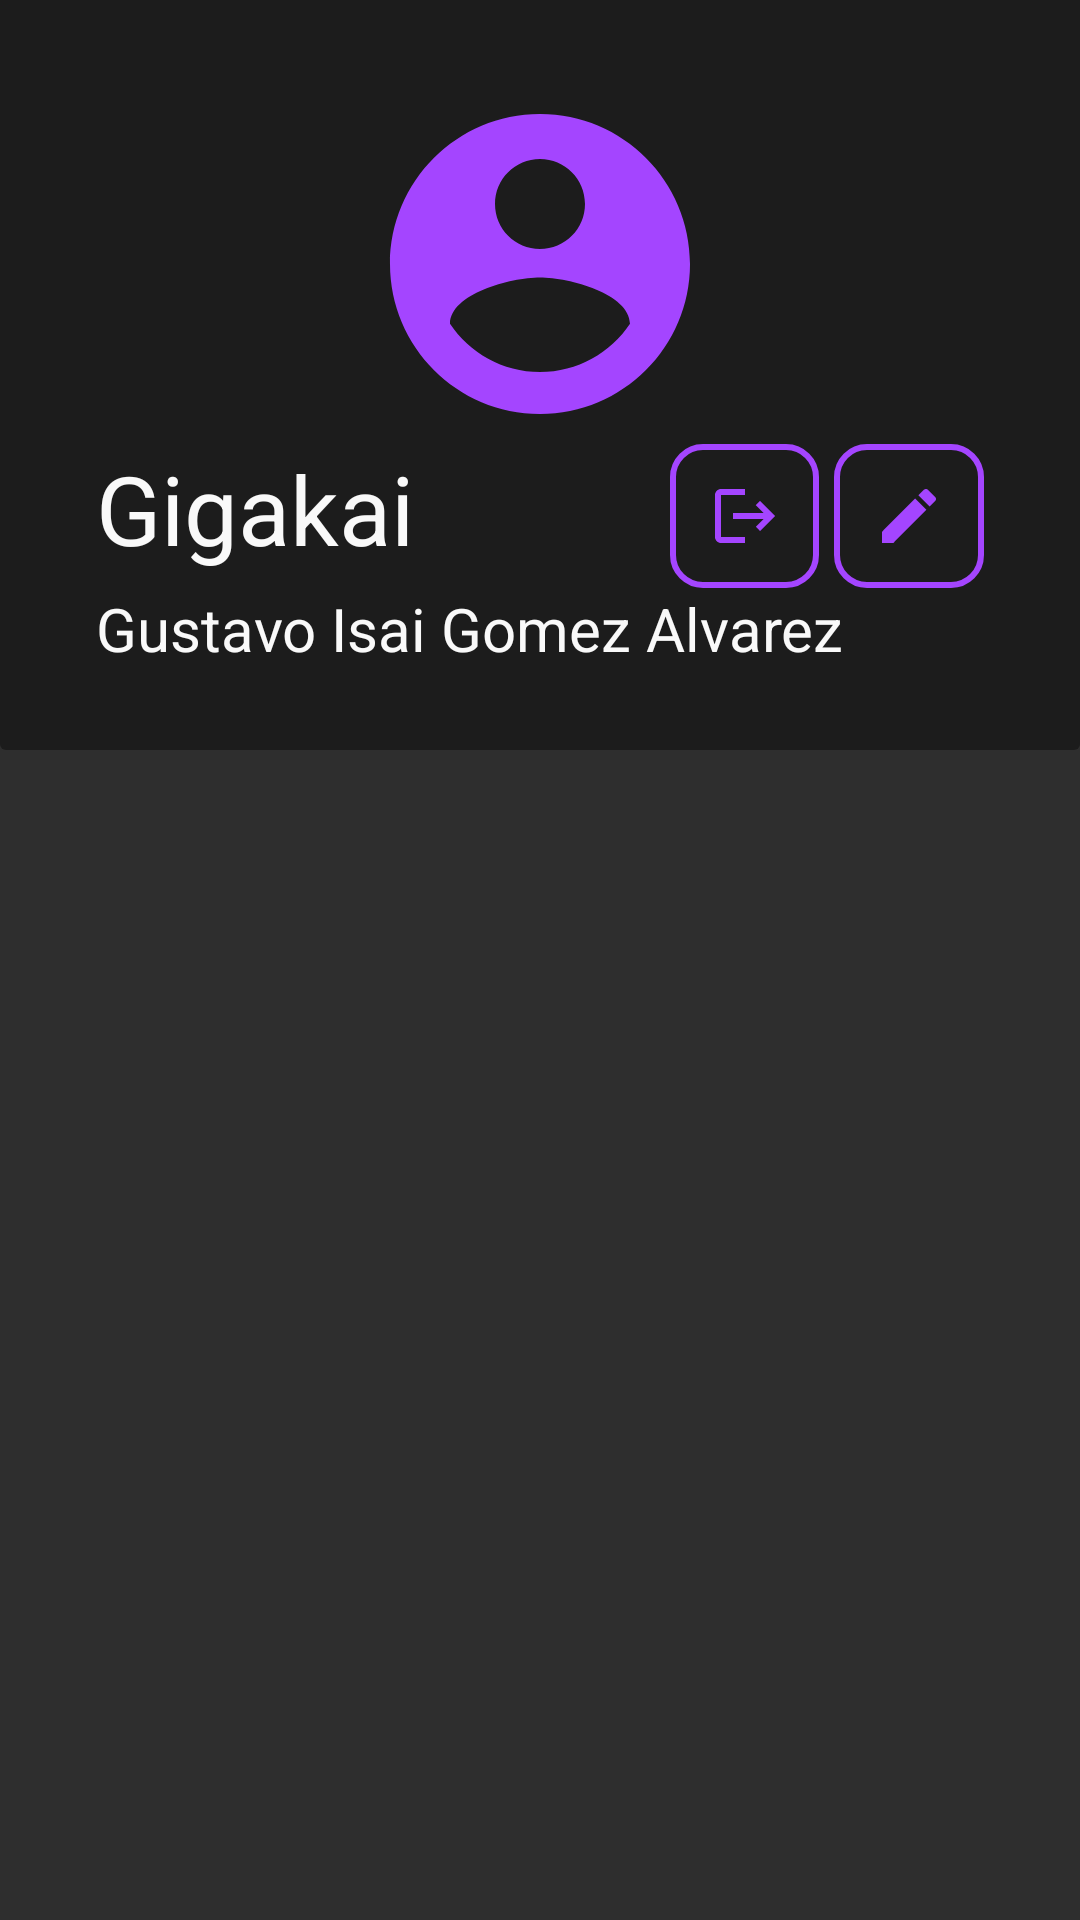

Point at icon controls on the screen. Image size 1080 x 1920, points as (x,y).
account circle: (540,264)
Edit Profile: (909,516)
